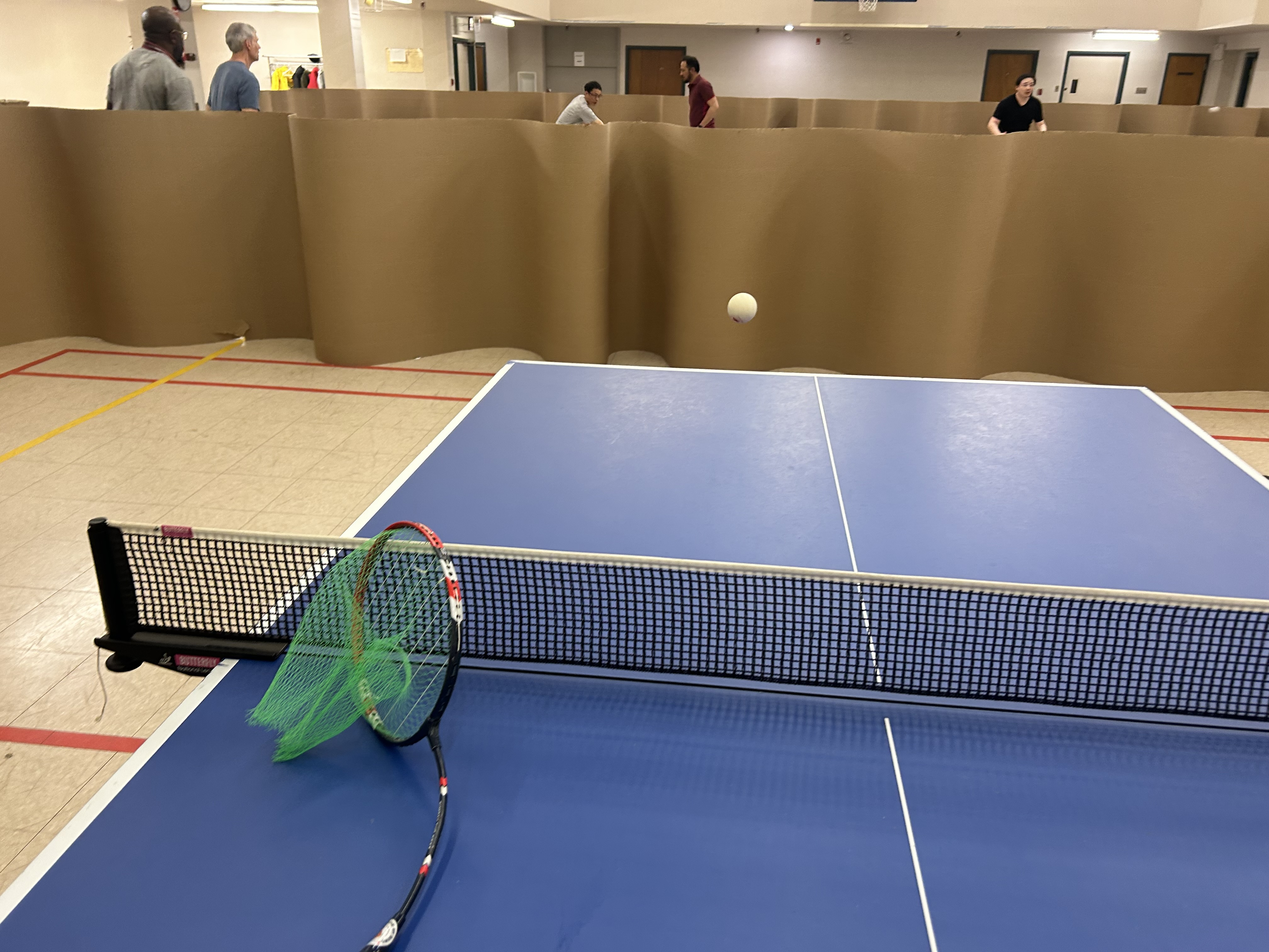Ball: (718, 284, 771, 339)
